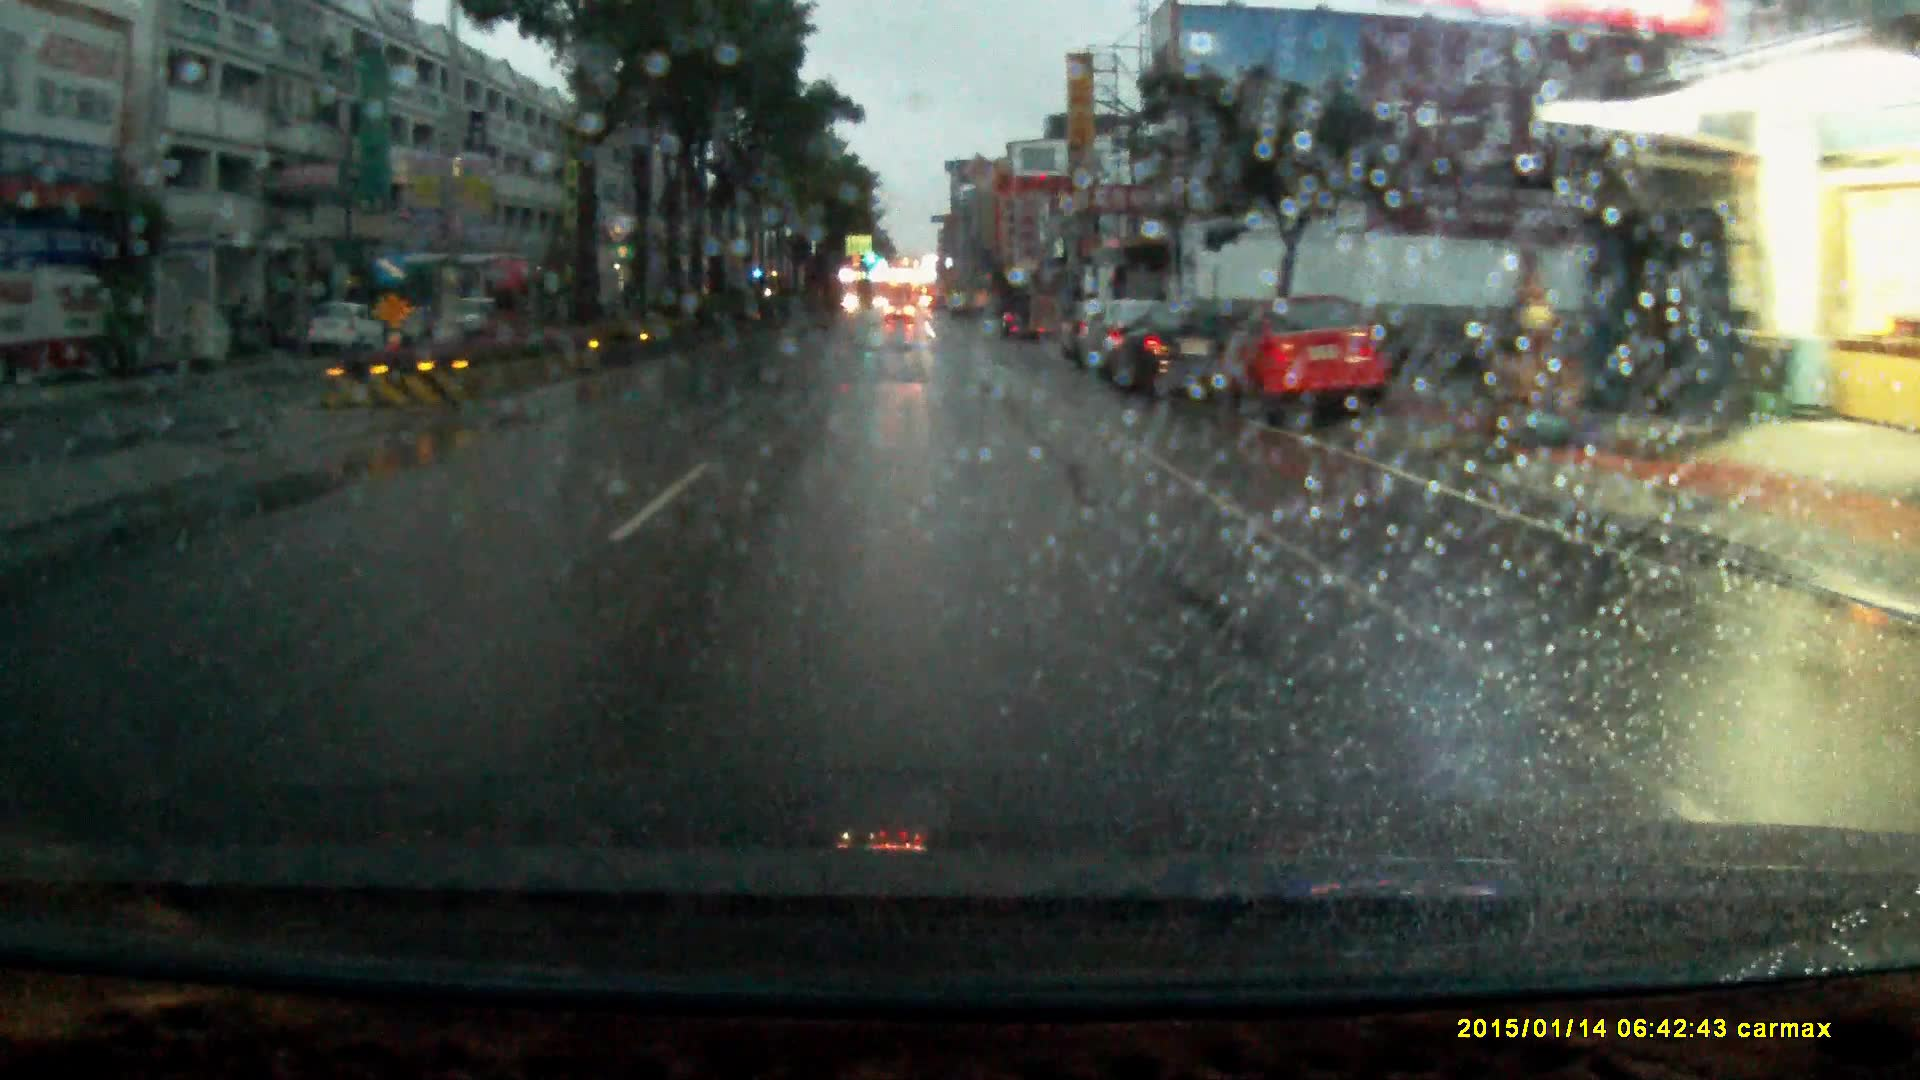vehicle: (1212, 301, 1387, 425), (1105, 302, 1233, 407), (1080, 301, 1162, 380), (419, 298, 520, 342), (309, 303, 386, 359), (996, 293, 1051, 344), (1058, 301, 1102, 361), (884, 301, 918, 330)
